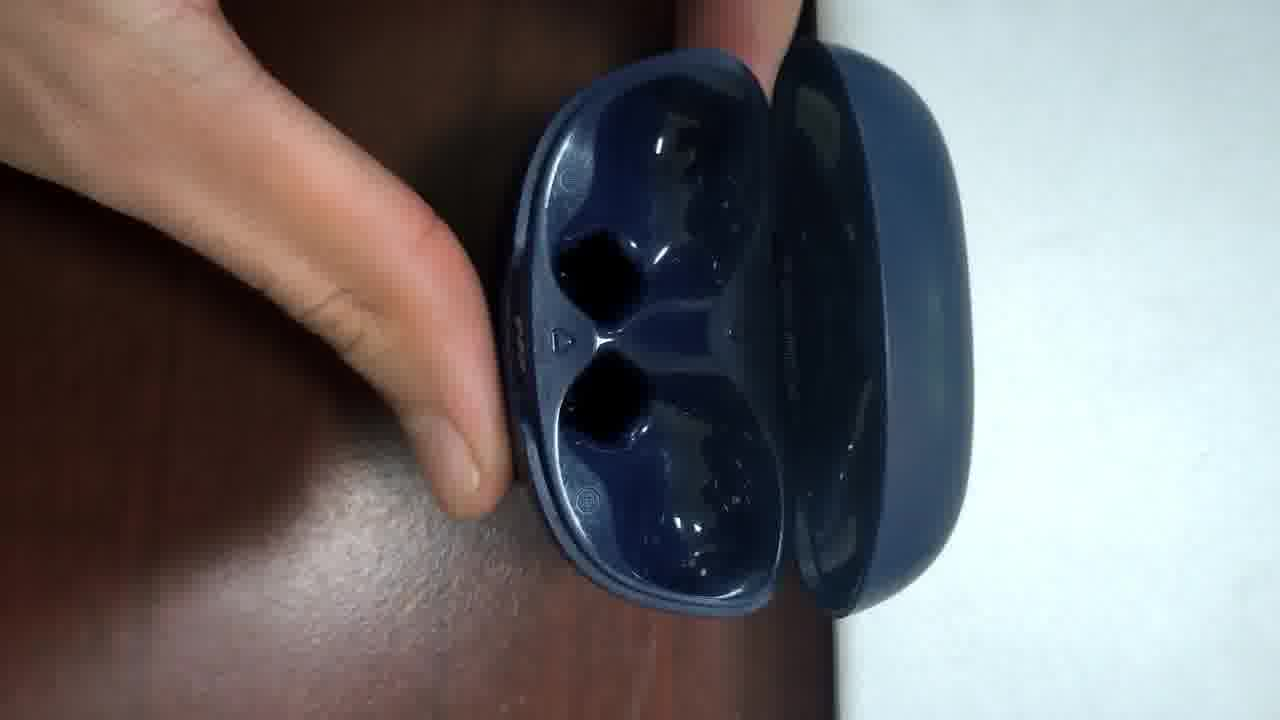Case: (499, 40, 972, 615)
Empty_Slot: (538, 71, 774, 321), (560, 353, 794, 605)
